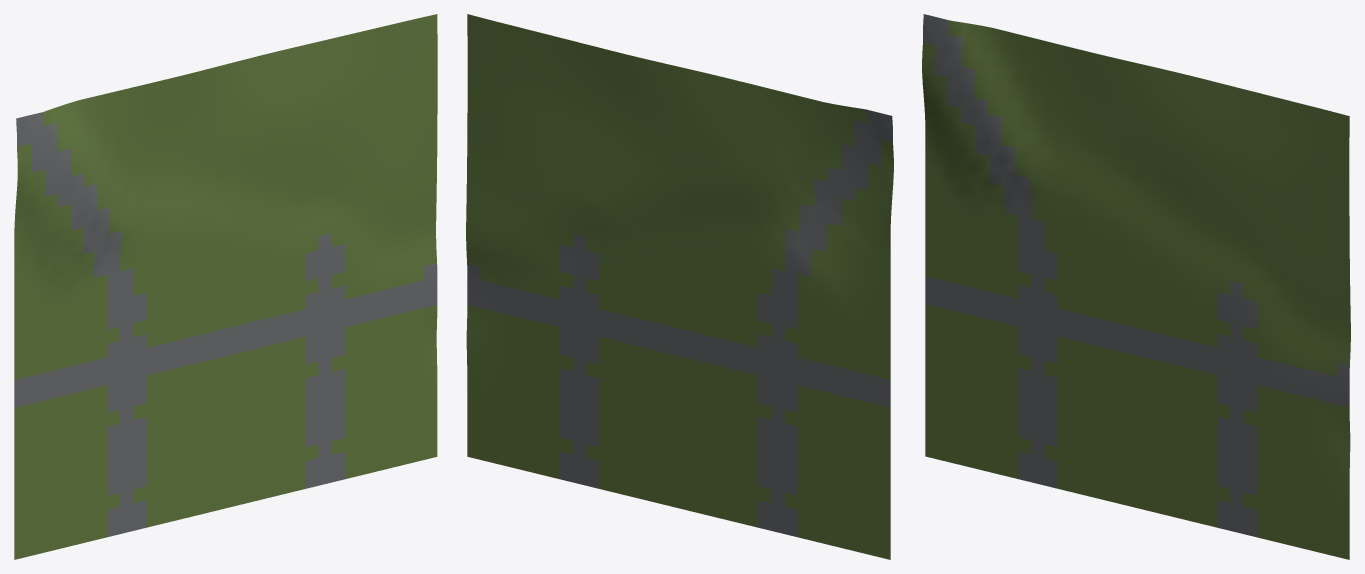
File: island_terrain_04_06.obj
3 views of the same model, side by side, from view 1: azimuth 30°, elevation 25°; view 2: azimuth 150°, elevation 25°; view 3: azimuth 330°, elevation 25° (orthographic).
Visible parts, largest first — view 1: island_terrain_04_06; view 2: island_terrain_04_06; view 3: island_terrain_04_06.
Boxes of the visible parts, x1,y1,x2,y2 form: island_terrain_04_06: [14, 14, 437, 559]; island_terrain_04_06: [466, 14, 893, 559]; island_terrain_04_06: [922, 14, 1350, 559].
Size of the model in its own units: 256 by 256 by 6.88.
